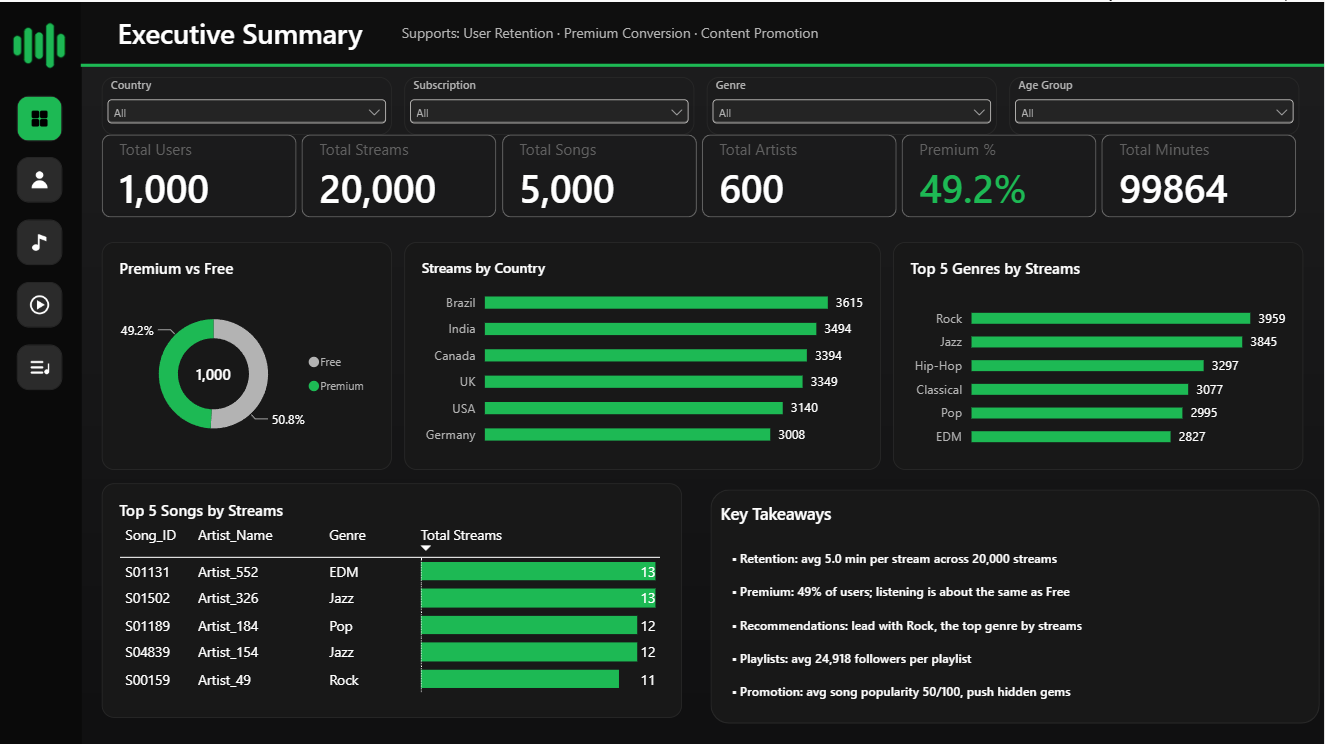

Layout of this report page (visuals, bound fields, positions):
{"tool":"powerbi","page":{"name":"Executive Summary","canvas":[1280,720],"ordinal":0},"visuals":[{"type":"textbox","box":[100.1,12.1,273.9,42.2],"z":0},{"type":"textbox","box":[390,20,700,28],"z":1000},{"type":"actionButton","box":[18,150,44,44],"z":2000},{"type":"actionButton","box":[18.1,210,44,44],"z":3000},{"type":"actionButton","box":[18,270,44,44],"z":4000},{"type":"actionButton","box":[18,330,44,44],"z":5000},{"type":"actionButton","box":[18,90,44,44],"z":6000},{"type":"slicer","title":"Country","fields":{"Values":["Users.Country"]},"box":[100,72,280,56],"z":7000},{"type":"slicer","title":"Subscription","fields":{"Values":["Users.Subscription"]},"box":[392,72,280,56],"z":8000},{"type":"slicer","title":"Age Group","fields":{"Values":["Users.Age"]},"box":[976,72,280,56],"z":9000},{"type":"slicer","title":"Country","fields":{"Values":["Artists.Genre"]},"box":[684,72,280,56],"z":10000},{"type":"cardVisual","fields":{"Data":["Artists.Total Users","Artists.Total Streams","Artists.Total Songs","Artists.Total Artists","Artists.Premium %","Artists.Total Minutes"]},"box":[100.1,127.9,1158.2,80],"z":11000},{"type":"donutChart","title":"Premium vs Free","fields":{"Category":["Users.Subscription"],"Y":["Artists.Total Users"]},"box":[100,232,280,220],"z":12000},{"type":"clusteredBarChart","title":"Streams by Country","fields":{"Category":["Users.Country"],"Y":["Artists.Total Streams"]},"box":[392,232,460,220],"z":13000},{"type":"clusteredBarChart","title":"Top 5 Genres by Streams","fields":{"Category":["Artists.Genre"],"Y":["Artists.Total Streams"]},"box":[864,232,396,220],"z":14000},{"type":"shape","box":[688,470,588,226],"z":15000},{"type":"tableEx","title":"Top 5 Songs by Streams","fields":{"Values":["Songs.Song_ID","Artists.Artist_Name","Artists.Genre","Artists.Total Streams"]},"box":[100,464,560,226],"z":16000},{"type":"textbox","box":[697.5,482.5,382.5,43.8],"z":17000},{"type":"cardVisual","fields":{"Data":["Streams.Key Takeaways"]},"box":[687.5,482.5,487.5,237.5],"z":18000},{"type":"image","box":[9.6,12.3,60.4,60],"z":19000}]}

Visuals, with their boxes on the page's 1280x720 design canvas (x1, y1, x2, y2). These are canvas units, not pixel positions in the 1325x744 screenshot, which may show the page scaled, cropped or inside an application window:
textbox: 100 12 374 54
textbox: 390 20 1090 48
actionButton: 18 150 62 194
actionButton: 18 210 62 254
actionButton: 18 270 62 314
actionButton: 18 330 62 374
actionButton: 18 90 62 134
"Country" slicer: 100 72 380 128
"Subscription" slicer: 392 72 672 128
"Age Group" slicer: 976 72 1256 128
"Country" slicer: 684 72 964 128
cardVisual - Artists.Total Users x Artists.Total Streams: 100 128 1258 208
"Premium vs Free" donutChart: 100 232 380 452
"Streams by Country" clusteredBarChart: 392 232 852 452
"Top 5 Genres by Streams" clusteredBarChart: 864 232 1260 452
shape: 688 470 1276 696
"Top 5 Songs by Streams" tableEx: 100 464 660 690
textbox: 698 482 1080 526
cardVisual - Streams.Key Takeaways: 688 482 1175 720
image: 10 12 70 72
